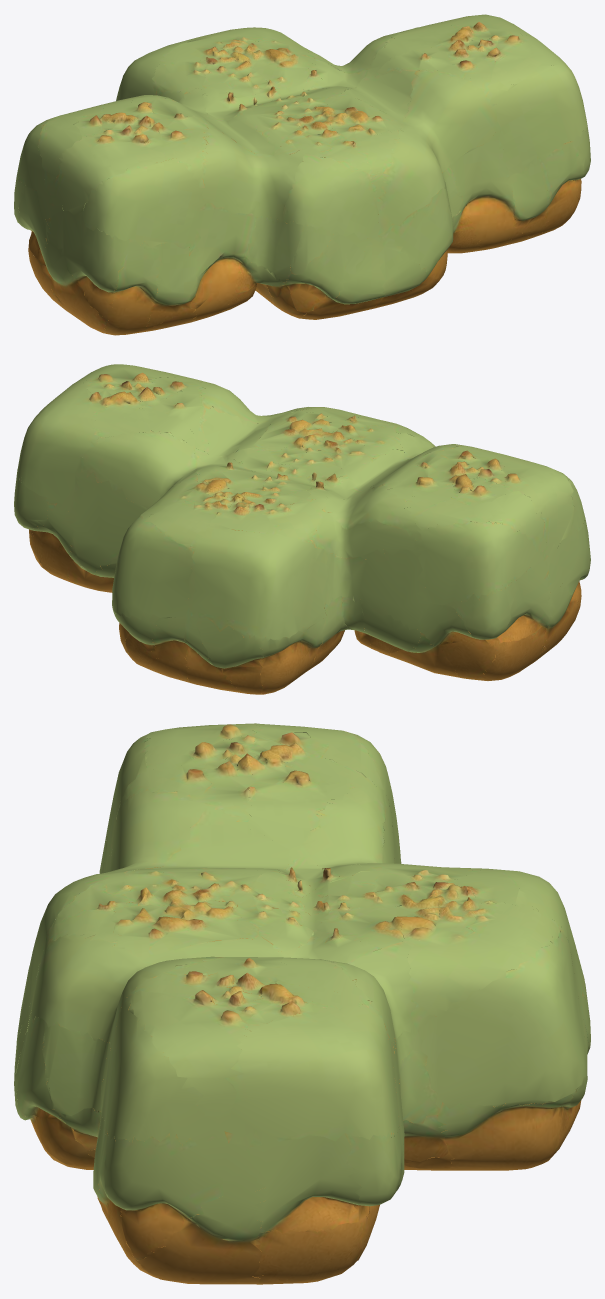
File: prop-pistachio-glow.glb
3 renders of one model, top to bottom at view 1: azimuth 30°, elevation 25°; view 2: azimuth 150°, elevation 25°; view 3: azimuth 270°, elevation 25°, orthographic. The views are drawn at different scales.
Parts seen in each view (by area): view 1: Mesh_0; view 2: Mesh_0; view 3: Mesh_0.
Boxes of the visible parts, x1,y1,x2,y2 form: Mesh_0: (14, 14, 590, 335); Mesh_0: (14, 364, 590, 694); Mesh_0: (14, 723, 590, 1284).
Bounding box in the file's own units: 1.9 × 0.663 × 1.31.
Materials: 1 (1 with a texture image).
